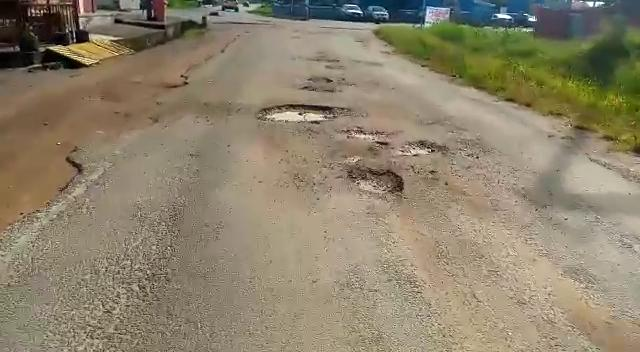pothole: (256, 103, 355, 125), (340, 163, 404, 194), (337, 127, 394, 146), (403, 138, 447, 157)
